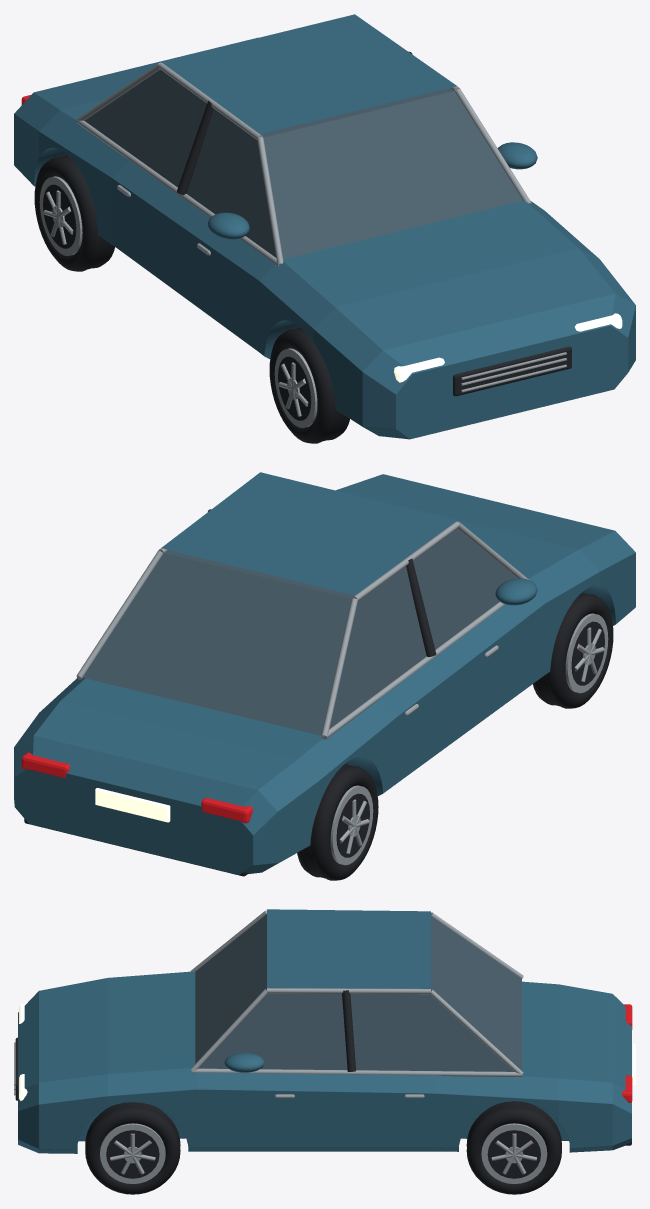
Rendered from Auto.glb.
3 views of the same model, one above another, from view 1: azimuth 30°, elevation 25°; view 2: azimuth 150°, elevation 25°; view 3: azimuth 270°, elevation 25° (orthographic). The views are drawn at different scales.
Visible parts, largest first — view 1: Karosserie, Kabine, Dach, Rad_Vorne_L_Mesh, Rad_Hinten_L_Mesh, Kuehlergrill, Fensterrahmen.003, B_Saeule, Fensterrahmen, Spiegel, Fensterrahmen.004, Fensterrahmen.001 (+2 smaller); view 2: Karosserie, Kabine, Dach, Rad_Hinten_L_Mesh, Rad_Vorne_L_Mesh, Kennzeichen, Fensterrahmen.003, Fensterrahmen.002, Fensterrahmen.006, B_Saeule, Spiegel, Fensterrahmen.001 (+2 smaller); view 3: Karosserie, Kabine, Dach, Rad_Hinten_R_Mesh, Rad_Vorne_R_Mesh, Fensterrahmen.007, Fensterrahmen.005, B_Saeule.001, Fensterrahmen.006, Spiegel.001, Fensterrahmen.004, Fensterrahmen.002.
Part boxes in pixels (x1,y1,x2,y2): Karosserie: (14, 37, 635, 439); Kabine: (84, 65, 522, 259); Dach: (161, 14, 456, 133); Rad_Vorne_L_Mesh: (269, 327, 349, 443); Rad_Hinten_L_Mesh: (34, 154, 114, 271); Kuehlergrill: (453, 346, 571, 396); Fensterrahmen.003: (76, 120, 279, 265); B_Saeule: (177, 100, 213, 195); Fensterrahmen: (257, 137, 283, 264); Spiegel: (207, 212, 249, 239); Fensterrahmen.004: (455, 88, 531, 203); Fensterrahmen.001: (158, 62, 262, 139); Karosserie: (14, 474, 635, 874); Kabine: (82, 524, 517, 735); Dach: (161, 472, 456, 595); Rad_Hinten_L_Mesh: (297, 764, 378, 880); Rad_Vorne_L_Mesh: (533, 592, 613, 708); Kennzeichen: (95, 788, 170, 822); Fensterrahmen.003: (322, 602, 504, 739); Fensterrahmen.002: (321, 598, 357, 736); Fensterrahmen.006: (77, 550, 163, 678); B_Saeule: (406, 558, 436, 657); Spiegel: (495, 578, 537, 605); Fensterrahmen.001: (352, 521, 459, 600); Karosserie: (18, 971, 631, 1153); Kabine: (195, 913, 521, 1071); Dach: (267, 909, 430, 988); Rad_Hinten_R_Mesh: (466, 1101, 561, 1194); Rad_Vorne_R_Mesh: (85, 1102, 180, 1194); Fensterrahmen.007: (192, 1068, 521, 1077); Fensterrahmen.005: (267, 988, 430, 994); B_Saeule.001: (342, 990, 355, 1071); Fensterrahmen.006: (430, 989, 523, 1074); Spiegel.001: (224, 1052, 264, 1072); Fensterrahmen.004: (190, 989, 267, 1071); Fensterrahmen.002: (431, 912, 523, 978).
Size of the model in its own units: 2.03 by 1.41 by 4.17.
